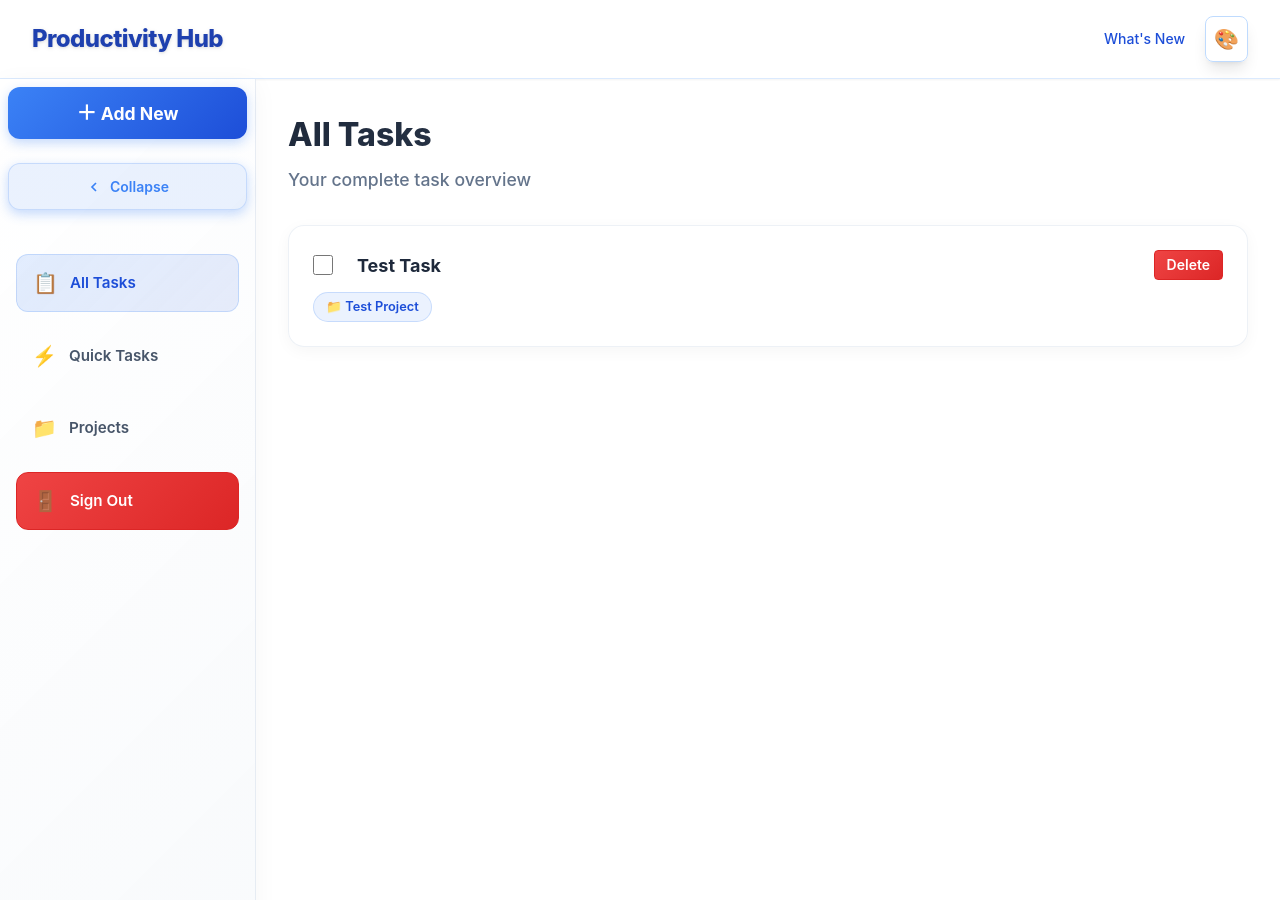
Test: Task Form › handles task deletion
Click the button "📁 Projects".
click(128, 428)  # box [16, 400, 239, 456]
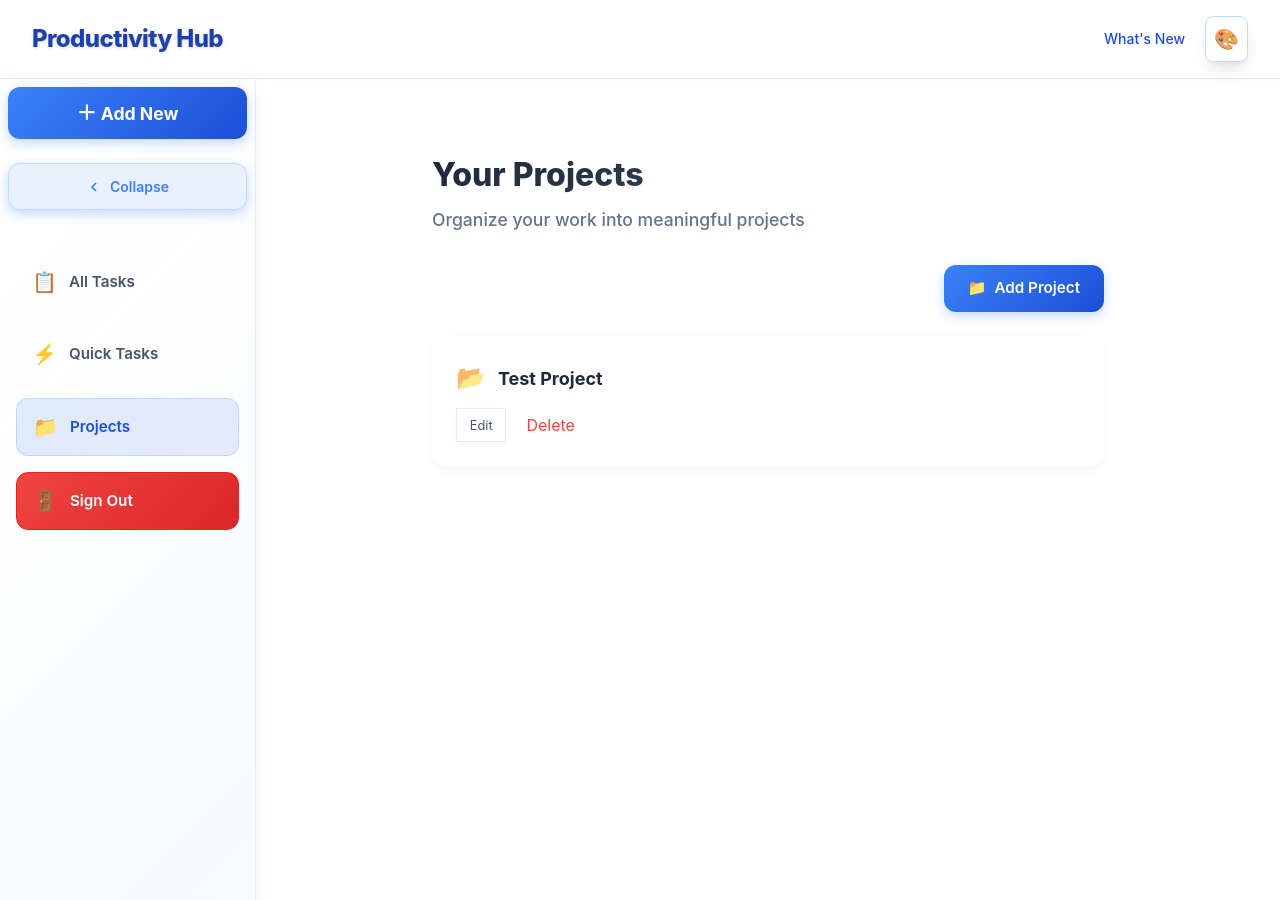
Click the text "Test Project".
click(550, 378)  # box [498, 368, 603, 389]
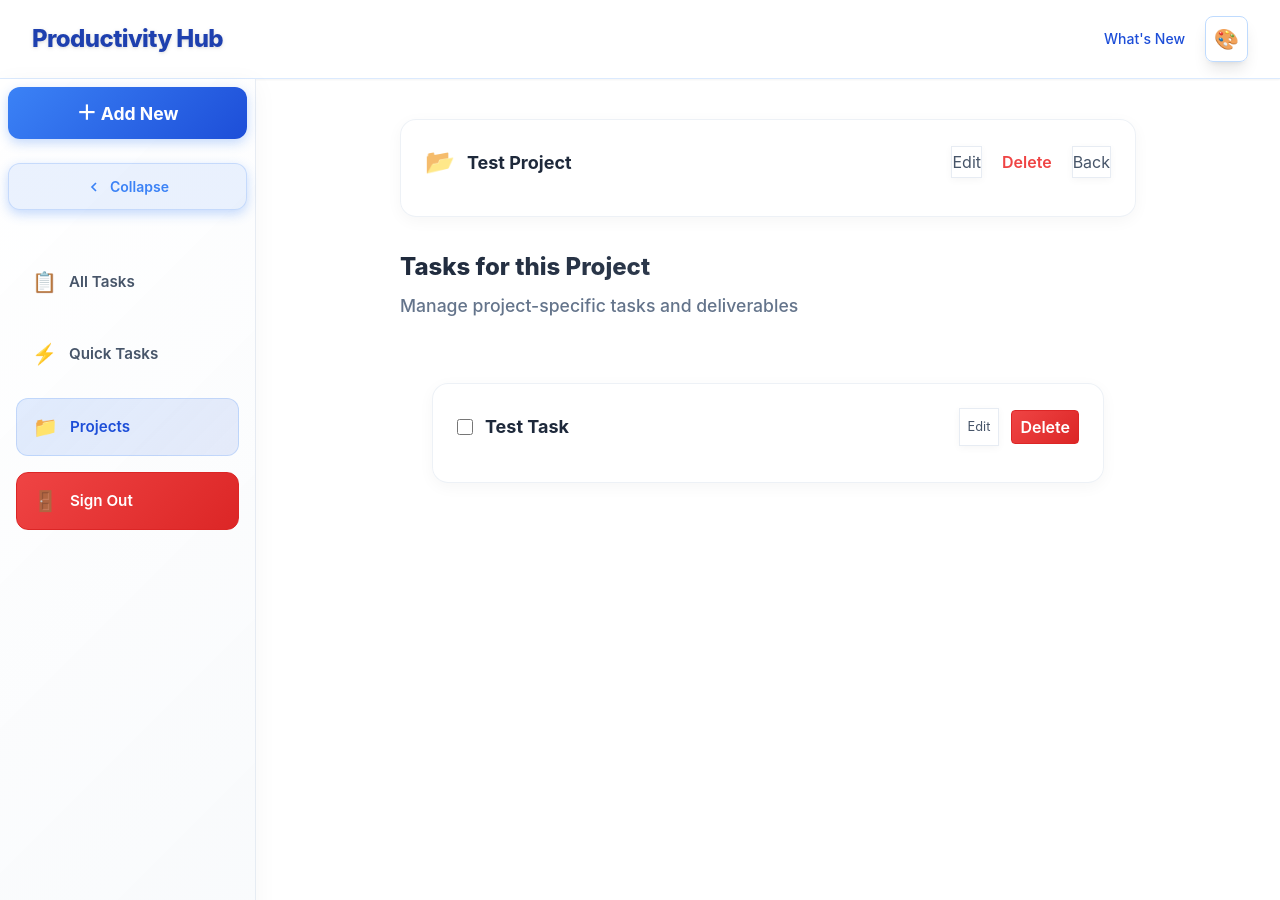
Expected: the element showing "Test Task Edit Delete" is shown, [432, 383, 1104, 483]
Expected: the 2nd button "Delete" is shown
Click the 2nd button "Delete".
click(1045, 427)  # box [1011, 410, 1079, 444]
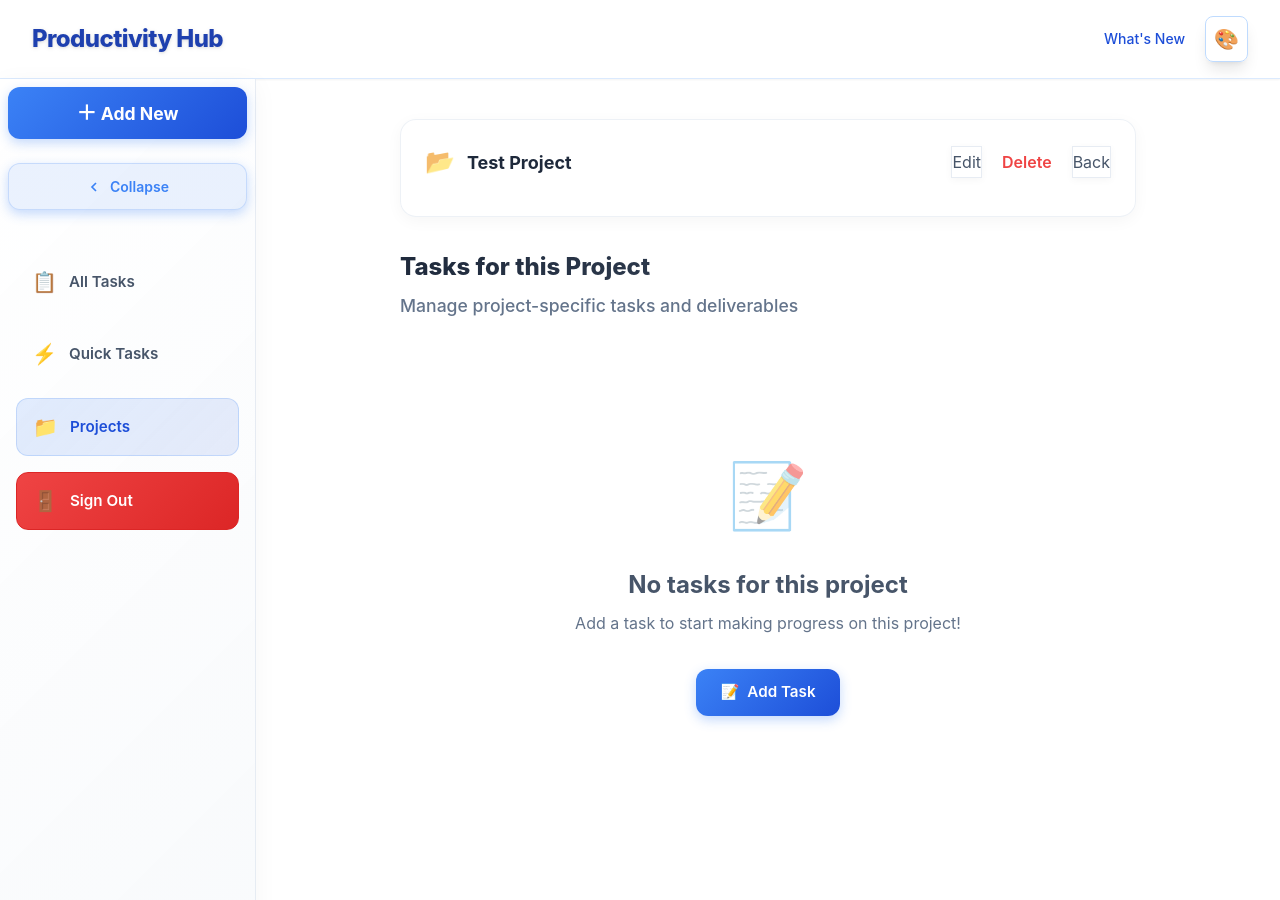
Expected: the button "Test Task" is gone
